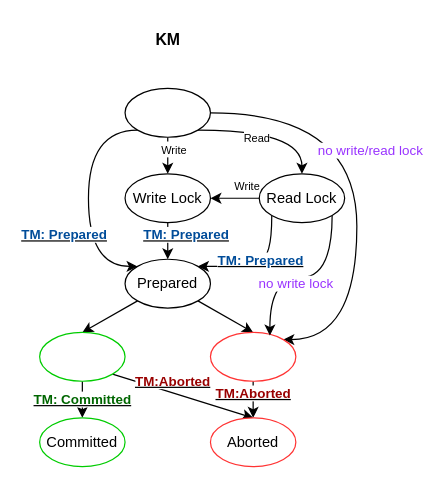
This 443x488 diagram has some shape labels left out. The centre of each missing label's shape, as x and y in pixels:
"Init" belongs at (167,112).
"Not Okay" belongs at (252,356).
"Okay" belongs at (81,356).
